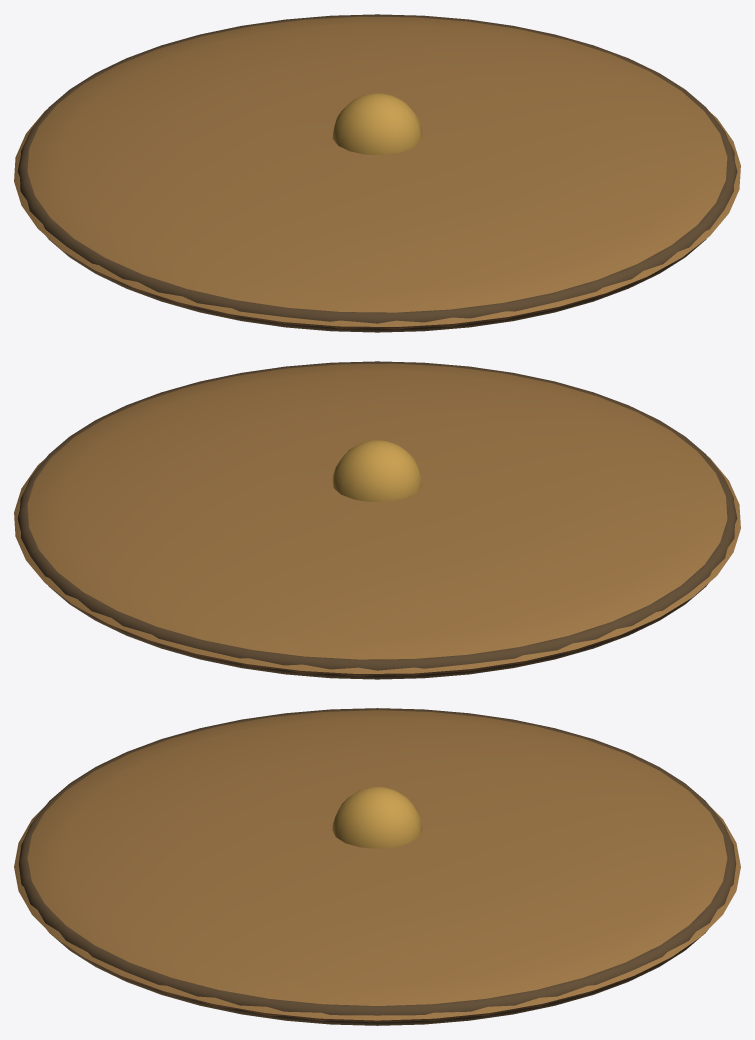
Rendered from shield.glb.
3 renders of one model, top to bottom at view 1: azimuth 30°, elevation 25°; view 2: azimuth 150°, elevation 25°; view 3: azimuth 270°, elevation 25°, orthographic.
Parts seen in each view (by area): view 1: face, rim, boss, core; view 2: face, rim, boss, core; view 3: face, rim, boss, core.
Boxes of the visible parts, x1,y1,x2,y2 form: face: [14, 16, 740, 326]; rim: [17, 14, 737, 332]; boss: [332, 93, 422, 155]; core: [68, 254, 680, 329]; face: [14, 363, 740, 673]; rim: [17, 361, 737, 679]; boss: [332, 440, 422, 502]; core: [74, 601, 686, 676]; face: [14, 710, 740, 1020]; rim: [18, 708, 736, 1025]; boss: [332, 786, 422, 848]; core: [85, 958, 669, 1022].
Size of the model in its own units: 0.728 by 0.124 by 0.728.
